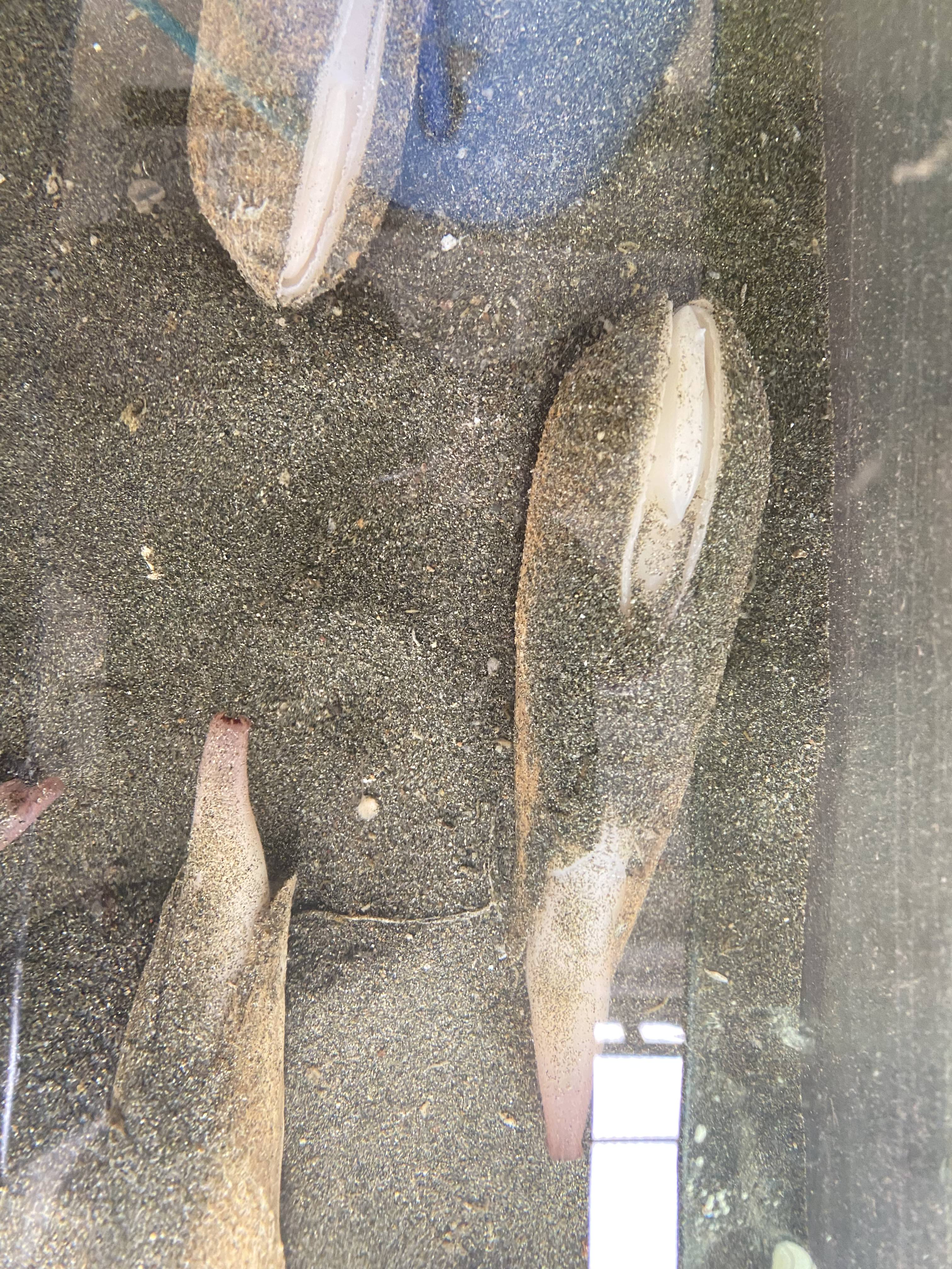Healthy: (515, 295, 770, 1159), (30, 714, 294, 1269)
